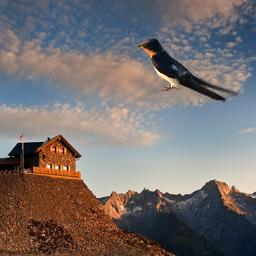Swallow: (134, 35, 240, 103)
